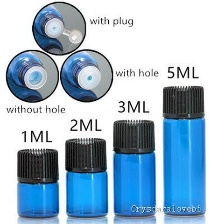bottle: (160, 81, 209, 217), (111, 116, 161, 220), (61, 135, 110, 218), (14, 142, 62, 218)
